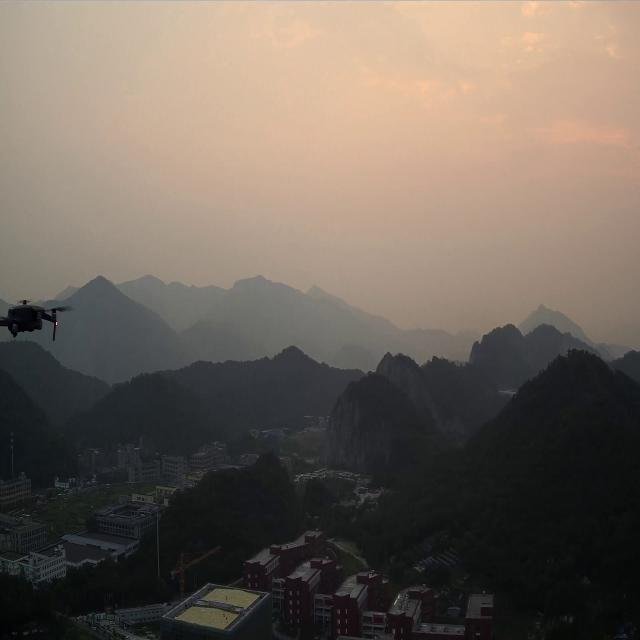UAV: (0, 296, 70, 342)
